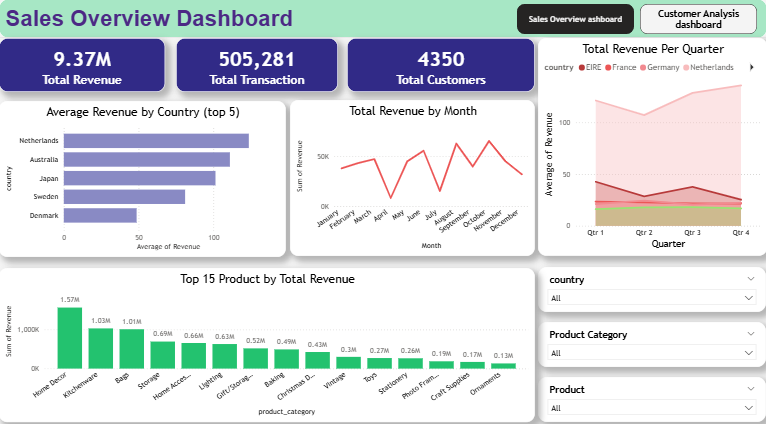

This screenshot's page, from the dashboard's own definition file:
{"tool":"powerbi","page":{"name":"Sales Overview  ashboard","canvas":[1280,720],"ordinal":0},"visuals":[{"type":"textbox","box":[0,0,1280,65],"z":0},{"type":"card","fields":{"Values":["Sum(retail.Revenue)"]},"box":[0,65,276.7,90],"z":1000},{"type":"card","fields":{"Values":["CountNonNull(retail.invoiceno)","select"]},"box":[295,65,270,90],"z":2000},{"type":"card","fields":{"Values":["retail.# Customers"]},"box":[580,65,313.3,90],"z":3000},{"type":"barChart","title":"Average Revenue by Country (top 5)","fields":{"Category":["retail.country"],"Y":["Avg(retail.Revenue)"]},"box":[0,170,478.3,260],"z":4000},{"type":"lineChart","title":"Total Revenue by Month","fields":{"Category":["retail.invoicedate.Variation.Date Hierarchy.Month"],"Y":["Sum(retail.Revenue)"]},"box":[485,168.3,408.3,260],"z":5000},{"type":"areaChart","title":"Total Revenue Per  Quarter","fields":{"Category":["retail.invoicedate.Variation.Date Hierarchy.Quarter"],"Y":["Avg(retail.Revenue)"],"Series":["retail.country"]},"box":[898.3,65,381.7,363.3],"z":6000},{"type":"slicer","fields":{"Values":["retail.country"]},"box":[898.3,446.7,380,75],"z":7000},{"type":"slicer","fields":{"Values":["retail.product_category"]},"box":[898.3,538.3,380,75],"z":8000},{"type":"slicer","fields":{"Values":["retail.description"]},"box":[898.3,630,380,75],"z":9000},{"type":"columnChart","title":"Top 15 Product by Total Revenue","fields":{"Category":["retail.product_category"],"Y":["Sum(retail.Revenue)"]},"box":[0,448.3,893.3,256.7],"z":10000},{"type":"pageNavigator","box":[863.3,8.3,400,50],"z":11000}]}

Visuals, with their boxes in screenshot pixels (x1, y1, x2, y2), scaled from the page's 1280x720 canvas onto the 766x424 screenshot:
textbox: left=0, top=0, right=765, bottom=38
card - Sum(retail.Revenue): left=0, top=38, right=166, bottom=91
card - CountNonNull(retail.invoiceno) x select: left=177, top=38, right=338, bottom=91
card - retail.# Customers: left=347, top=38, right=535, bottom=91
"Average Revenue by Country (top 5)" barChart: left=0, top=100, right=286, bottom=253
"Total Revenue by Month" lineChart: left=290, top=99, right=535, bottom=252
"Total Revenue Per  Quarter" areaChart: left=538, top=38, right=765, bottom=252
slicer - retail.country: left=538, top=263, right=765, bottom=307
slicer - retail.product_category: left=538, top=317, right=765, bottom=361
slicer - retail.description: left=538, top=371, right=765, bottom=415
"Top 15 Product by Total Revenue" columnChart: left=0, top=264, right=535, bottom=415
pageNavigator: left=517, top=5, right=756, bottom=34
